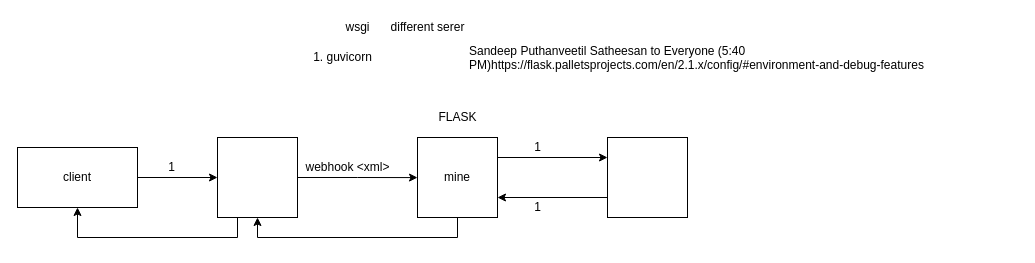
This 1035x263 diagram has some shape labels left out. The shapes that lost their labels are listed below. From the top down, each one's centre as x and y in pixels, then its label:
At point (257, 177): "wecom".
At point (647, 177): "OPENAI".
